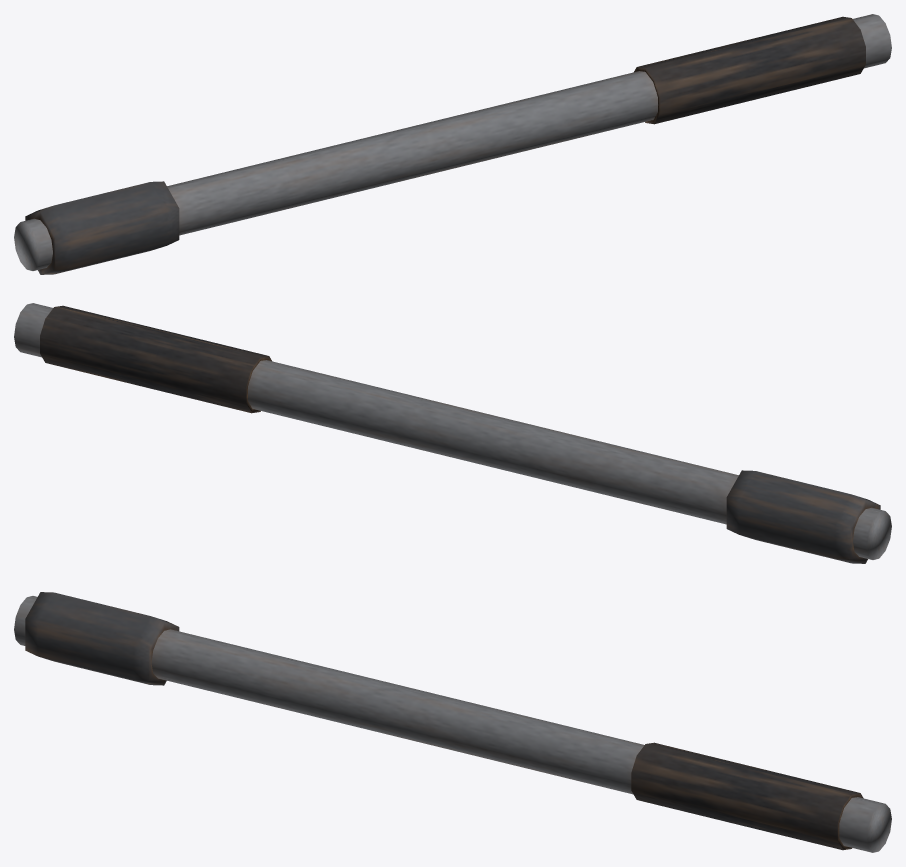
File: rurka.glb
3 renders of one model, top to bottom at view 1: azimuth 30°, elevation 25°; view 2: azimuth 150°, elevation 25°; view 3: azimuth 330°, elevation 25°, orthographic.
Parts seen in each view (by area): view 1: Rurka; view 2: Rurka; view 3: Rurka.
Boxes of the visible parts, x1,y1,x2,y2 form: Rurka: (14,14,891,274); Rurka: (14,303,891,563); Rurka: (14,592,891,852).
Bounding box in the file's own units: 0.62 × 0.048 × 0.0416.
Materials: 1 (1 with a texture image).
